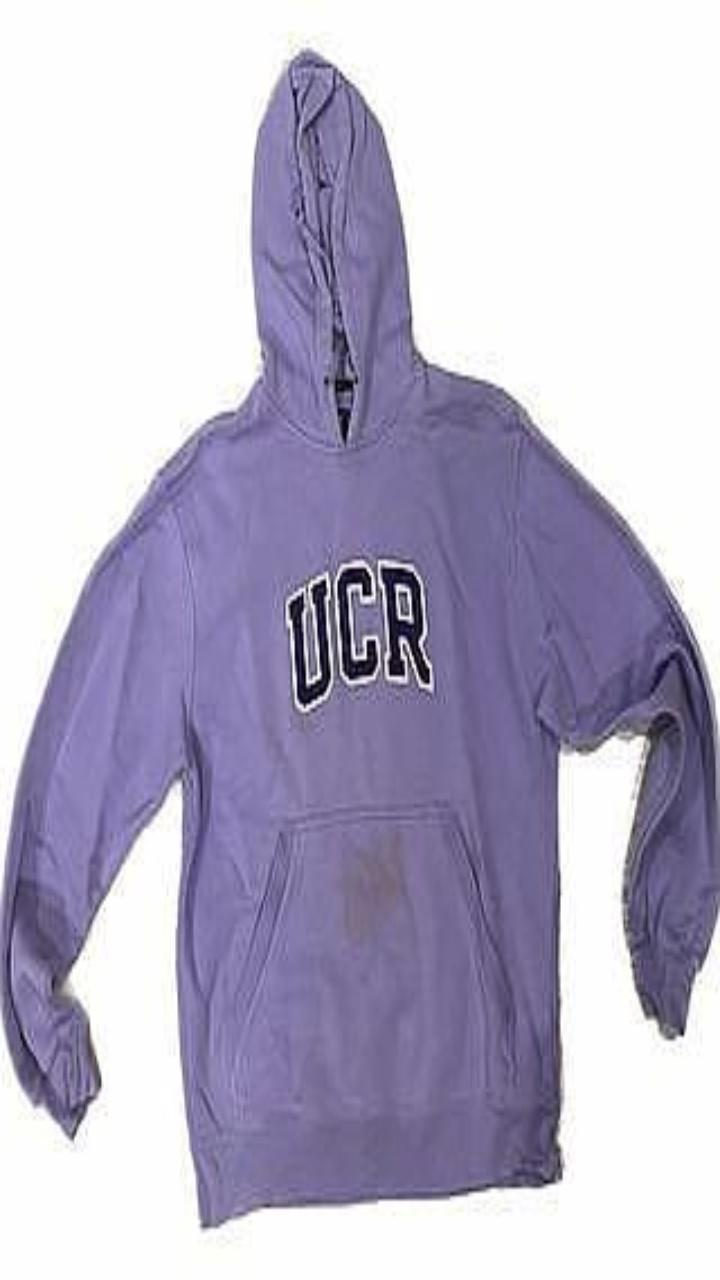Hoodie: (2, 50, 719, 1224)
